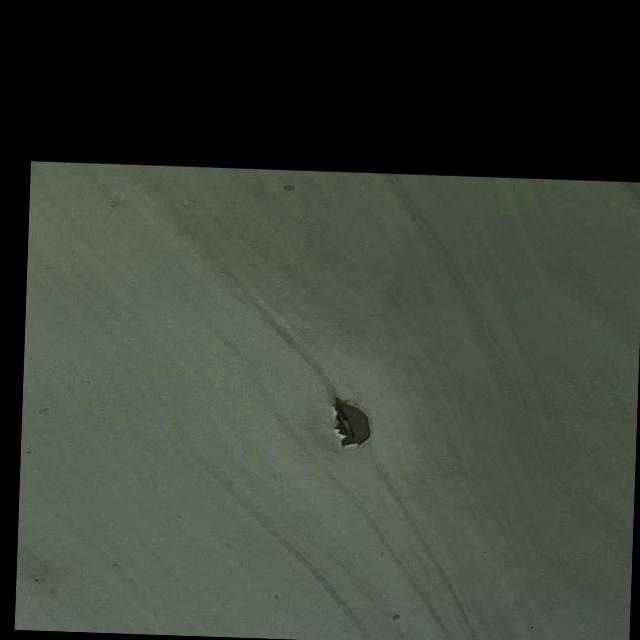crack: (338, 382, 366, 442)
